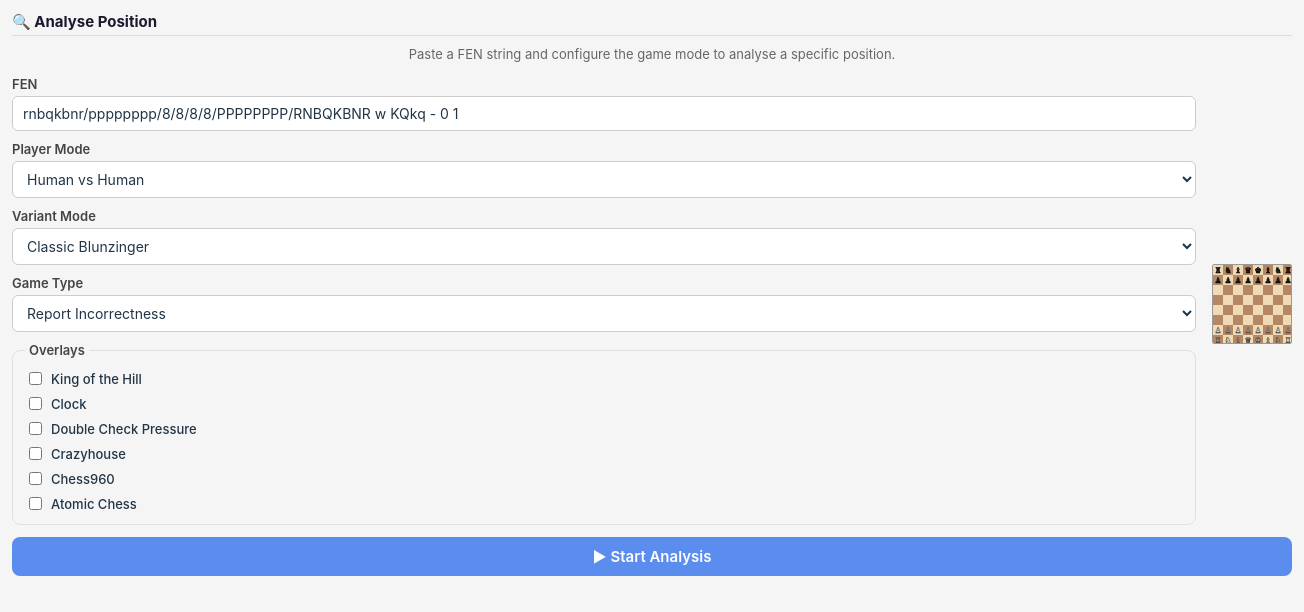
AnalysePositionForm › shows error for invalid FEN
Replace the text in the field named "FEN string for analysis" with "not-a-fen" at coordinates (604, 114), box [12, 96, 1196, 131]
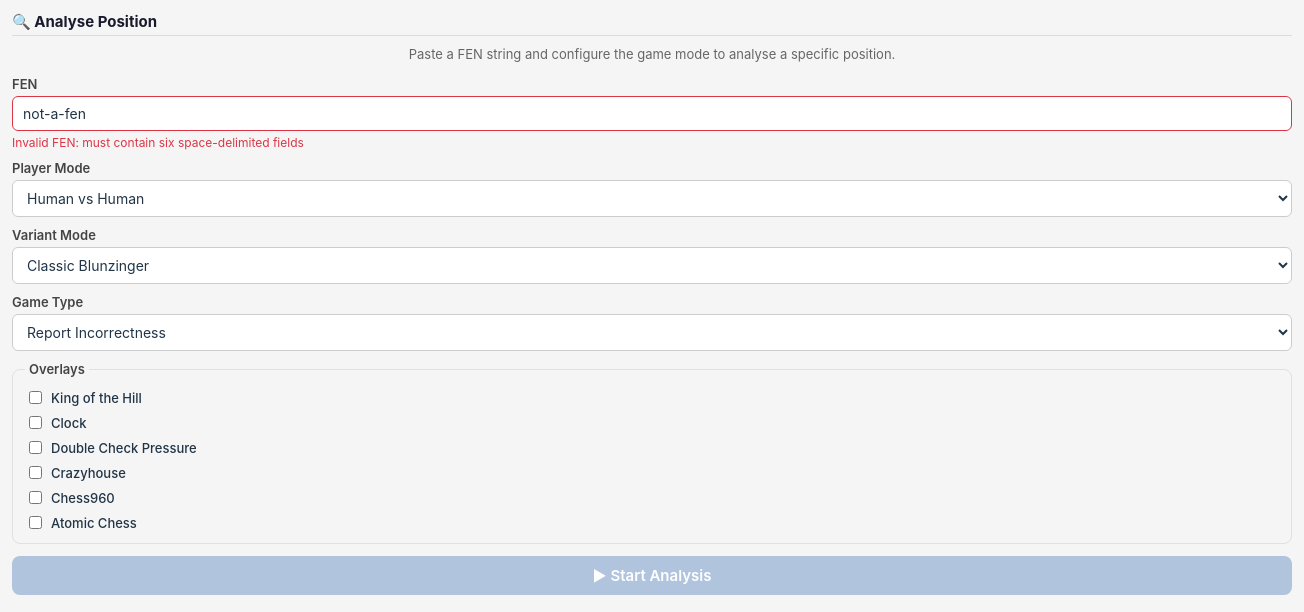
Result: the text "Invalid FEN" is shown at [12, 135, 304, 150]
